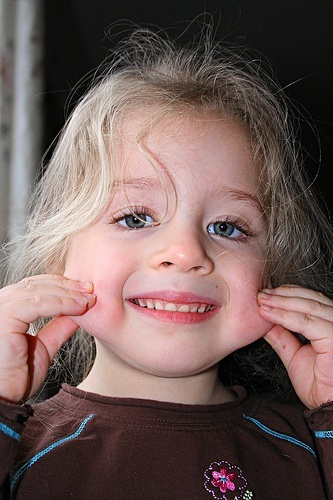head: (30, 22, 316, 406)
person: (1, 20, 333, 492)
